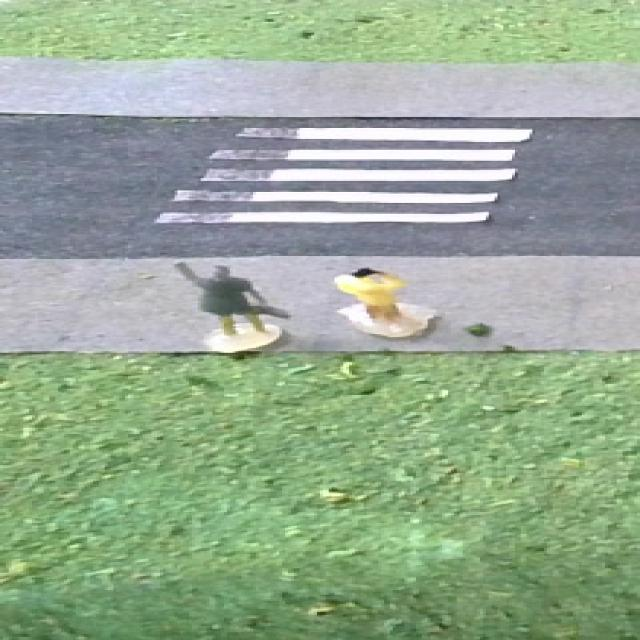person: (165, 252, 297, 356), (329, 266, 438, 338)
